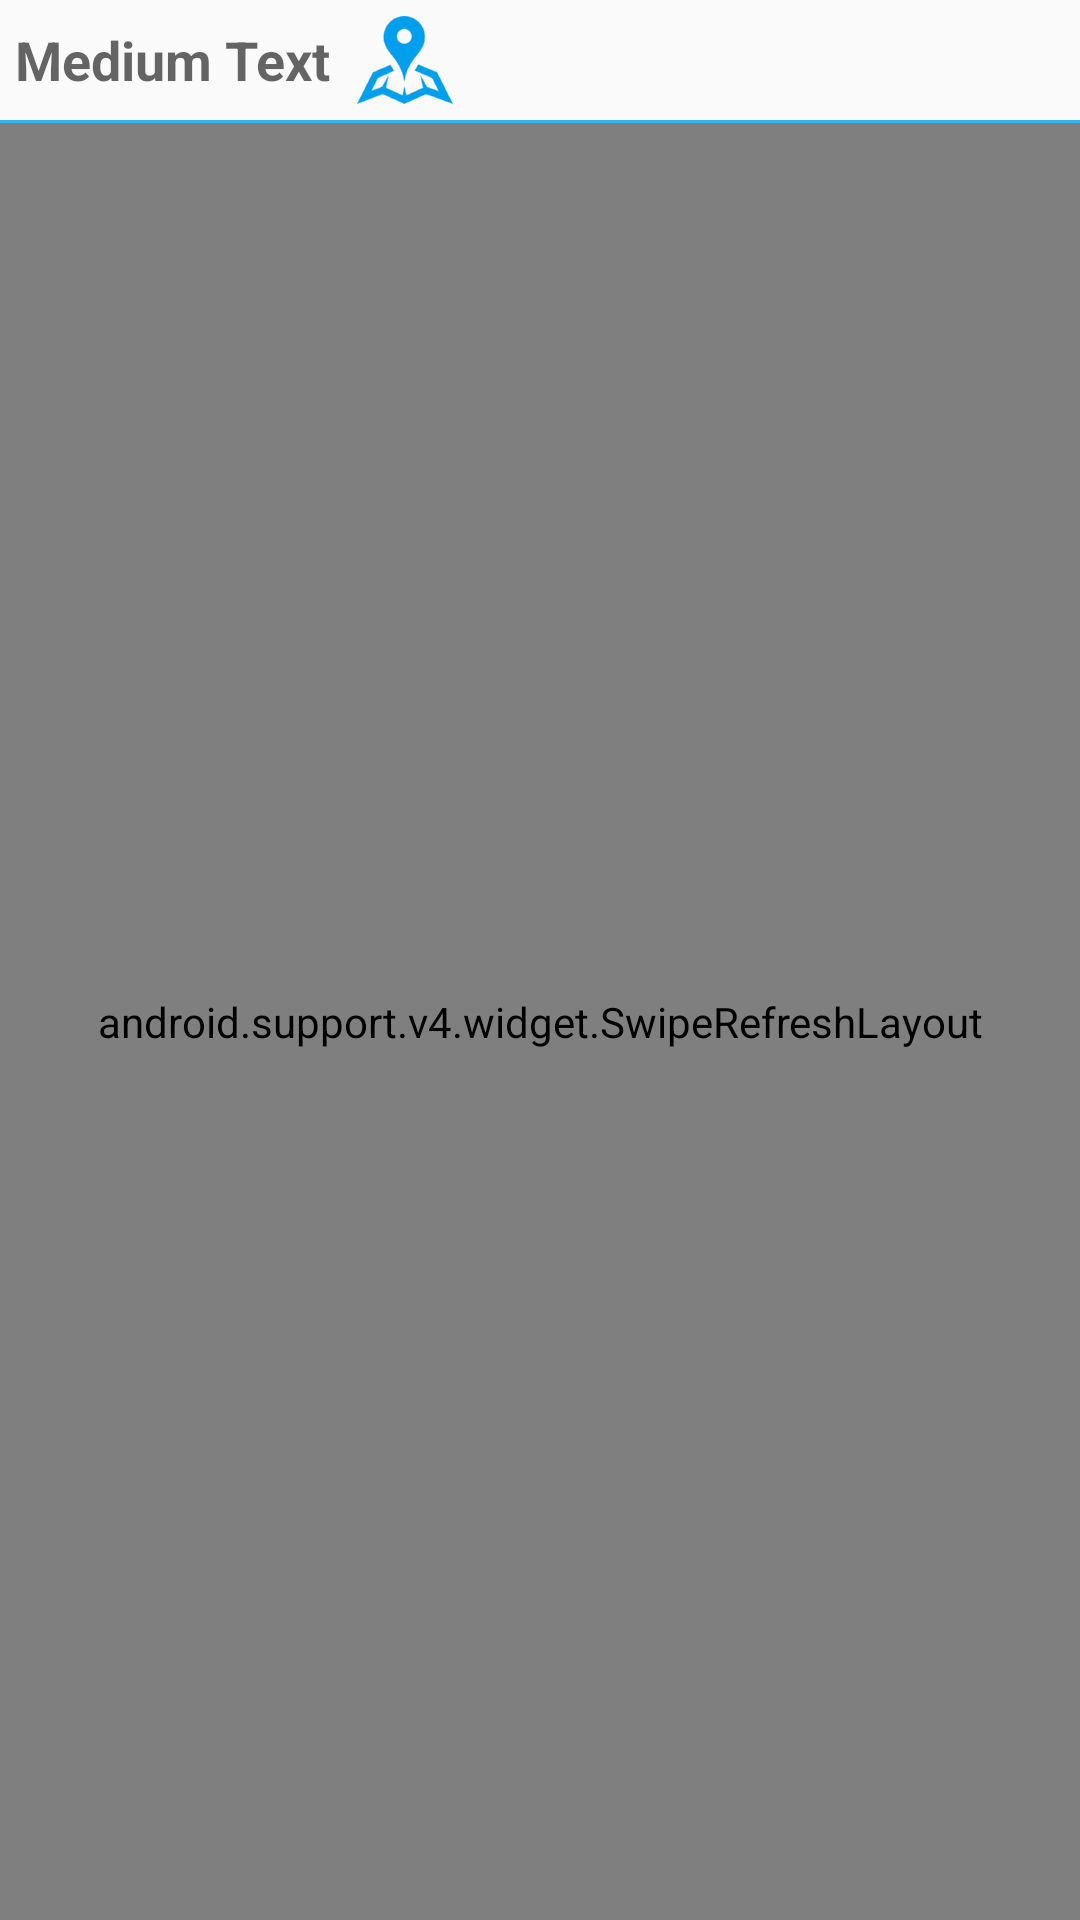

Where icons sit on this 1080*1920 app screen, as (x1, y1, x2, y2):
location: (357, 16, 453, 104)
